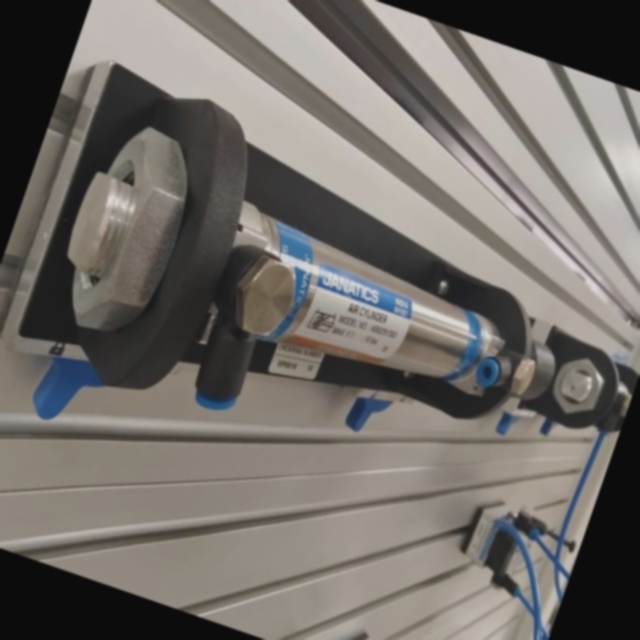double acting pneumatic cylinder: (0, 22, 620, 586)
